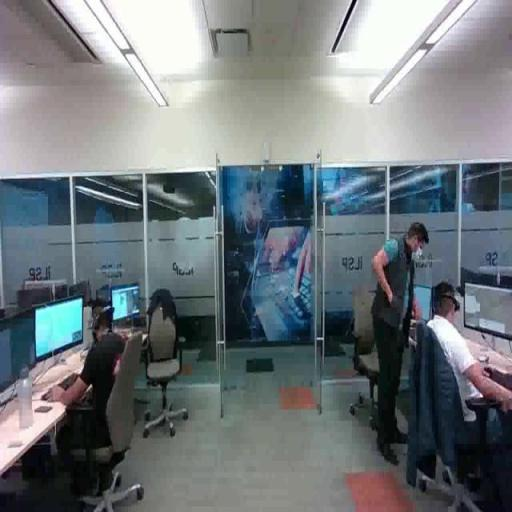person: (373, 212, 432, 473)
